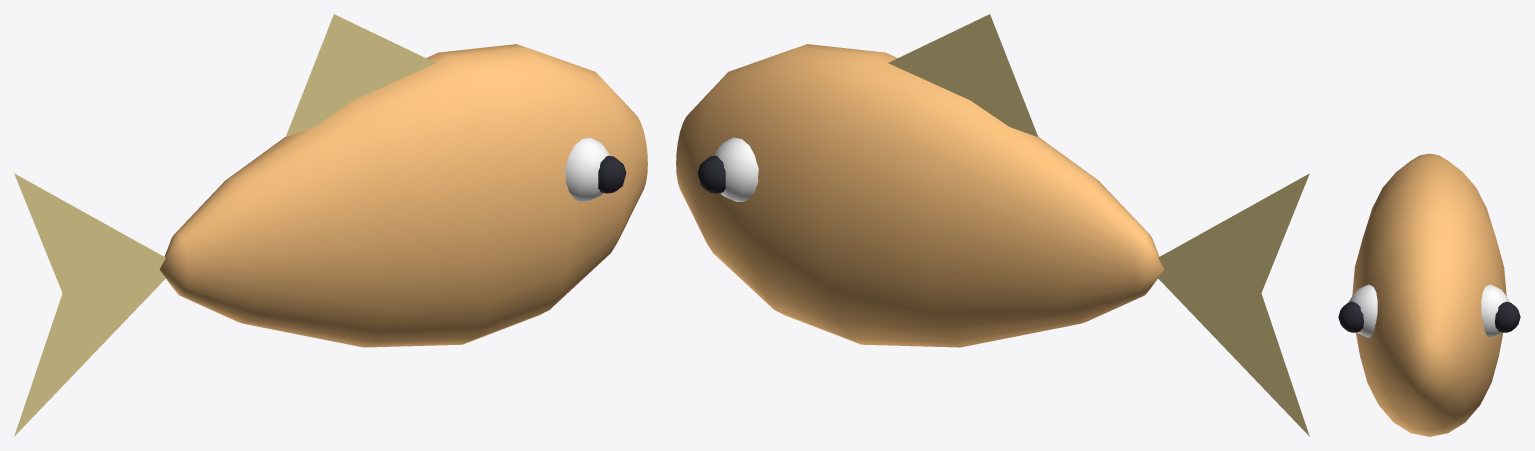
The model's file is fish.glb.
3 renders of one model, left to right at view 1: azimuth 30°, elevation 25°; view 2: azimuth 150°, elevation 25°; view 3: azimuth 270°, elevation 25°, orthographic. The views are drawn at different scales.
Visible parts, largest first — view 1: body, fins, eye_white, pupil; view 2: body, fins, eye_white, pupil; view 3: body, eye_white, pupil.
Part boxes in pixels (<box>): body: <box>159,44,647,347</box>; fins: <box>14,14,435,436</box>; eye_white: <box>565,137,610,201</box>; pupil: <box>598,155,626,193</box>; body: <box>676,44,1164,347</box>; fins: <box>888,14,1309,436</box>; eye_white: <box>713,137,758,201</box>; pupil: <box>697,155,725,193</box>; body: <box>1352,153,1506,436</box>; eye_white: <box>1348,284,1510,337</box>; pupil: <box>1338,301,1520,332</box>.
Size of the model in its own units: 0.65 by 0.35 by 0.198.
